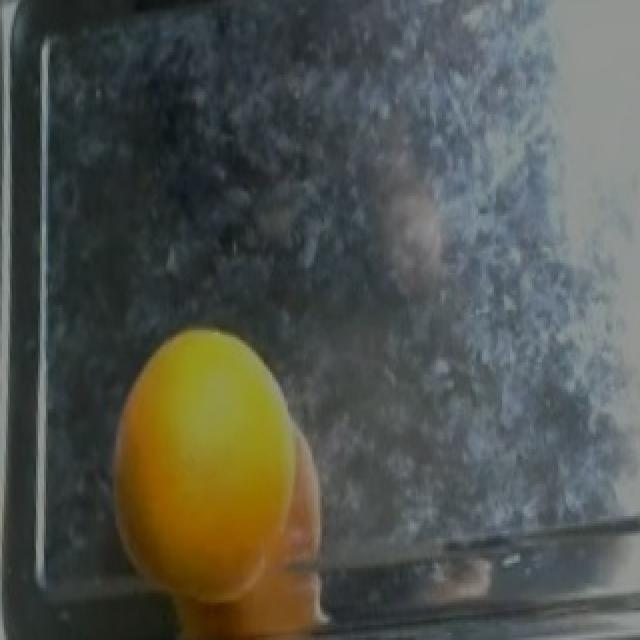Fruit: (100, 322, 340, 640)
